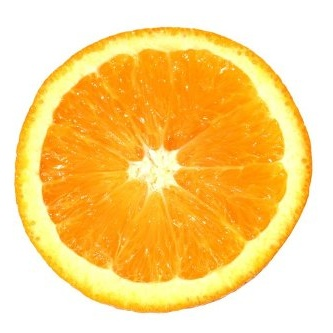mandarin: (15, 28, 313, 313)
